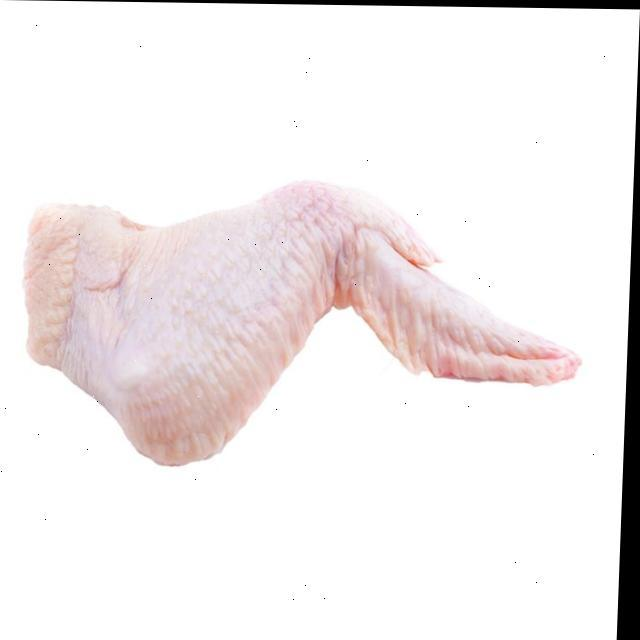wing: (18, 168, 597, 490)
